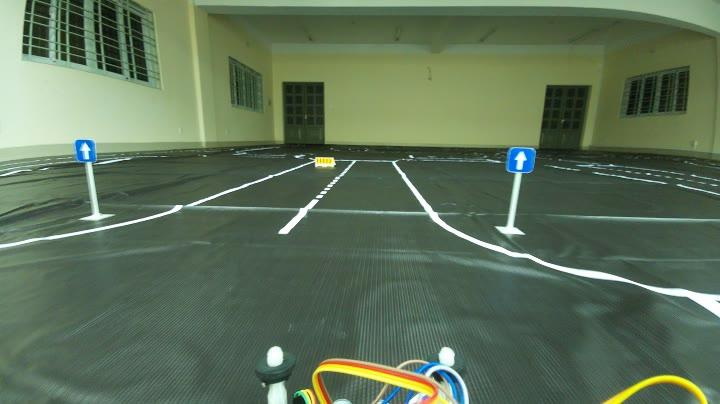onewayroad: (502, 145, 540, 178), (67, 136, 102, 166)
roadblock: (312, 154, 336, 169)
